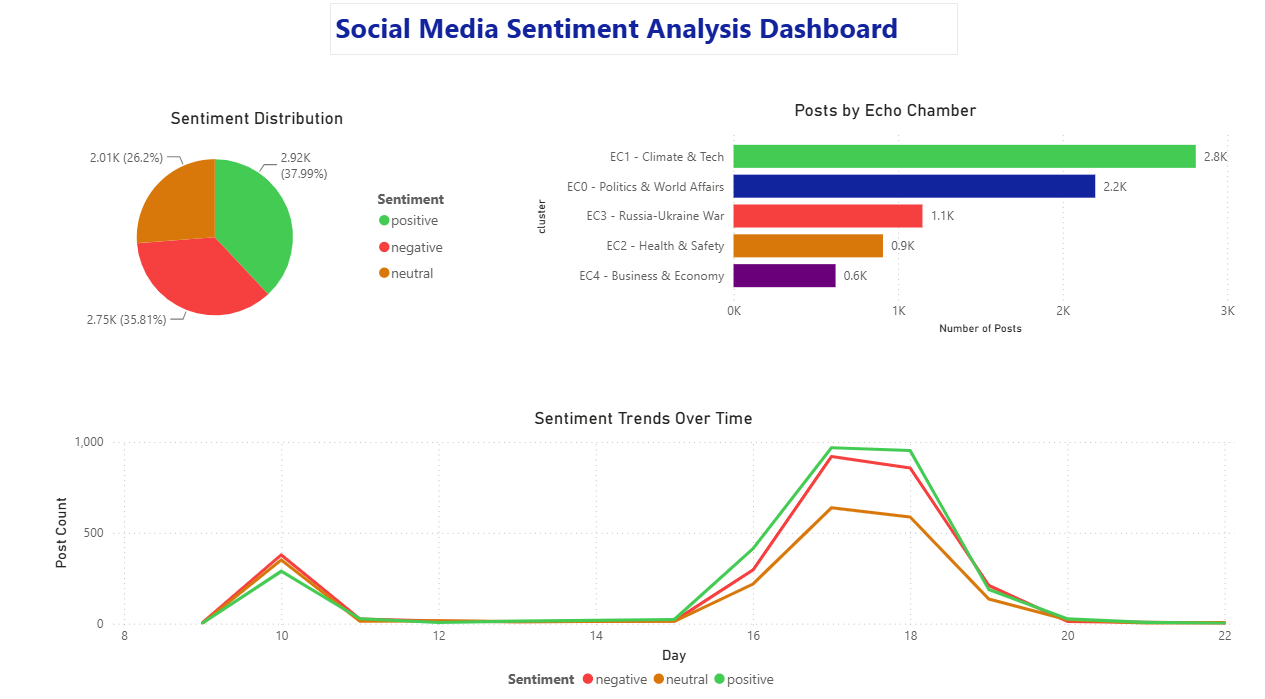

What the dashboard file says about the page in this screenshot:
{"tool":"powerbi","page":{"name":"Overview","canvas":[1280,720],"ordinal":0},"visuals":[{"type":"pieChart","title":"Sentiment Distribution","fields":{"Category":["PowerBi Alalysis data.Sentiment"],"Y":["CountNonNull(PowerBi Alalysis data.Sentiment)"]},"box":[72.9,127.4,408.5,232.5],"z":0},{"type":"clusteredBarChart","title":"Posts by Echo Chamber","fields":{"Y":["CountNonNull(PowerBi Alalysis data.echo_chamber)"],"Category":["PowerBi Alalysis data.cluster"]},"box":[543.7,119.6,689.6,232.5],"z":1000},{"type":"lineChart","title":"Sentiment Trends Over Time","fields":{"Y":["CountNonNull(PowerBi Alalysis data.Sentiment)"],"Series":["PowerBi Alalysis data.Sentiment"],"Category":["PowerBi Alalysis data.Date Time.Variation.Date Hierarchy.Day"]},"box":[72.9,419.2,1160.4,282.1],"z":2001},{"type":"textbox","box":[348.2,25.3,610.8,50.6],"z":2002}]}

Visuals, with their boxes in screenshot pixels (x1, y1, x2, y2), scaled from the page's 1280x720 canvas onto the 1265x699 screenshot:
"Sentiment Distribution" pieChart: x1=72, y1=124, x2=476, y2=349
"Posts by Echo Chamber" clusteredBarChart: x1=537, y1=116, x2=1219, y2=342
"Sentiment Trends Over Time" lineChart: x1=72, y1=407, x2=1219, y2=681
textbox: x1=344, y1=25, x2=948, y2=74
